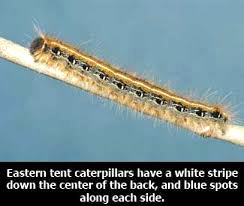Caterpillar: (27, 27, 234, 150)
